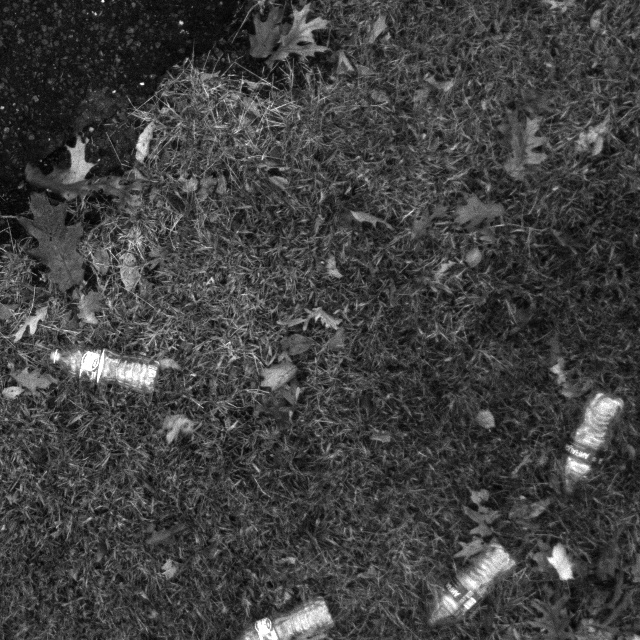bottle: (39, 327, 168, 418), (409, 535, 520, 637), (553, 388, 634, 499)
